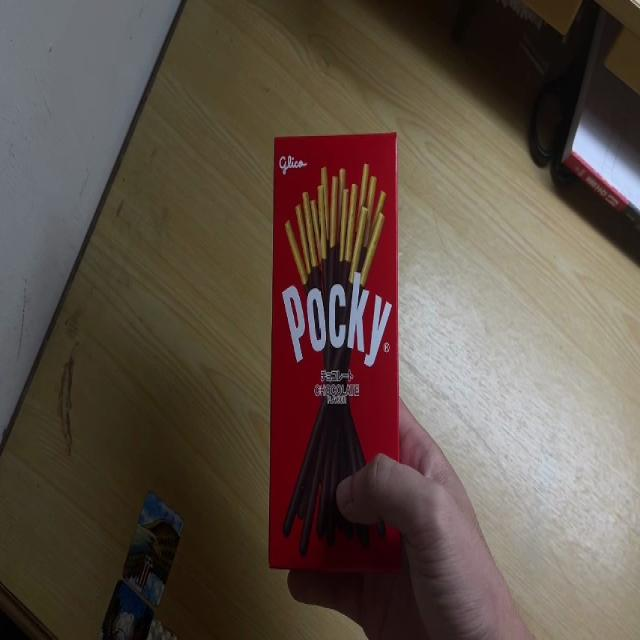Pocky: (267, 132, 406, 572)
